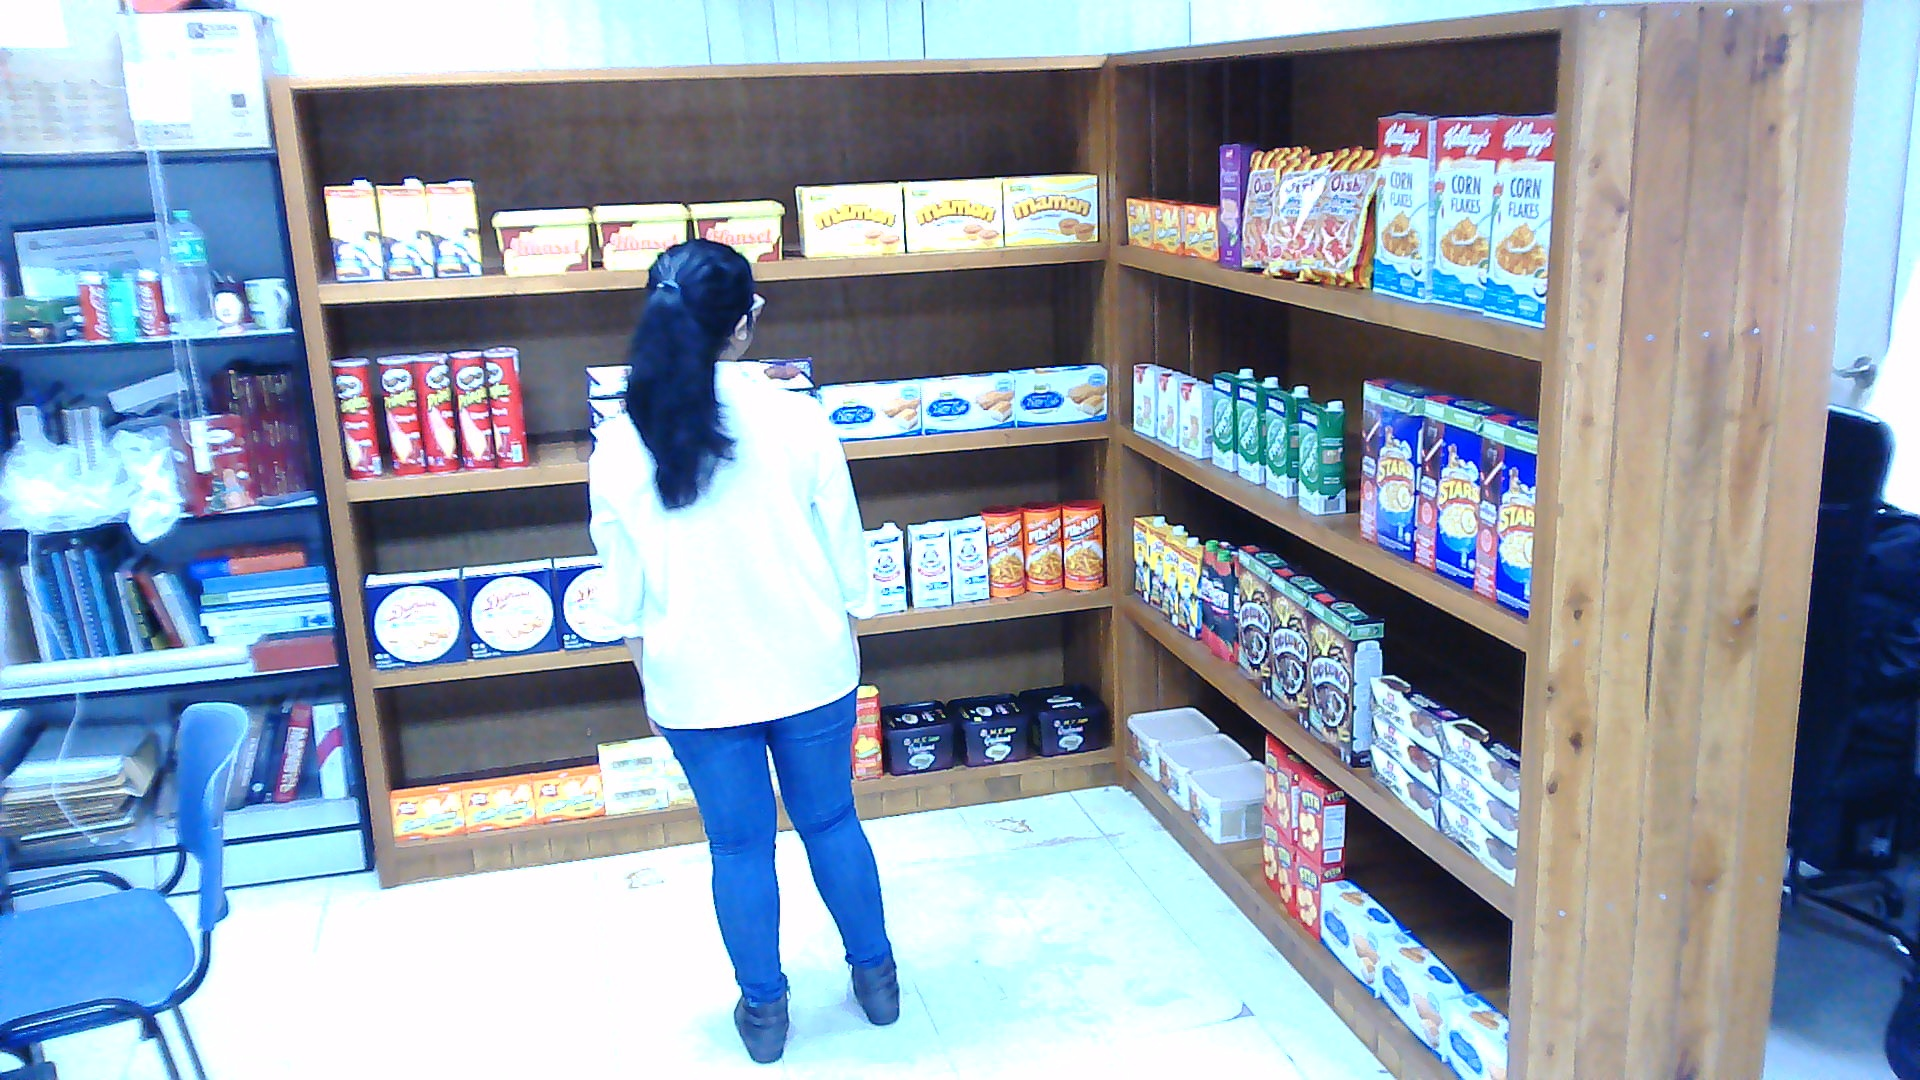Bear brand: (942, 513, 990, 601), (906, 520, 951, 608), (864, 520, 906, 612)
Buttercake: (1380, 929, 1476, 1062), (1320, 877, 1410, 999), (912, 368, 1014, 431), (1007, 362, 1106, 425), (812, 378, 917, 434), (1446, 992, 1506, 1078)
Butterlicious: (527, 762, 602, 821), (459, 771, 534, 830), (390, 780, 462, 841), (1152, 198, 1188, 254), (1125, 196, 1164, 245), (1184, 203, 1217, 259)
Camomille: (597, 735, 663, 782), (603, 776, 666, 814)
Choco Crunchies: (1371, 672, 1467, 755), (1440, 718, 1521, 808), (1440, 794, 1518, 886), (1440, 758, 1518, 848), (1371, 742, 1437, 830), (1370, 710, 1439, 791), (738, 353, 810, 387), (585, 360, 627, 394), (585, 396, 627, 423)
Chocolate Chips: (1124, 704, 1217, 780), (1155, 734, 1251, 808), (1185, 758, 1263, 844)
Chuckie: (321, 177, 381, 278), (374, 177, 431, 278), (426, 180, 480, 274), (1149, 524, 1188, 612), (1164, 533, 1197, 625), (1134, 513, 1167, 603), (1175, 542, 1202, 639)
Danisa: (362, 564, 467, 667), (459, 555, 561, 656), (552, 554, 624, 648)
Fita: (1293, 846, 1344, 940), (1296, 767, 1344, 864), (1278, 749, 1311, 846), (1266, 731, 1290, 819), (1278, 828, 1296, 918), (1260, 805, 1278, 891)
Fresh Milk: (1298, 398, 1343, 513), (1266, 385, 1311, 495), (1236, 376, 1281, 484), (1212, 367, 1257, 473)
Grahams: (1020, 682, 1104, 756), (948, 693, 1032, 765), (882, 700, 954, 774)
Hansel: (489, 207, 591, 272), (591, 200, 687, 268), (684, 198, 786, 261)
Head: (642, 236, 768, 371)
Honey Stars: (1413, 392, 1512, 590), (1359, 373, 1443, 560), (1473, 409, 1539, 614)
Kellogg Corn Flakes: (1482, 112, 1554, 326), (1430, 115, 1499, 311), (1373, 110, 1436, 301)
Koko Krunch: (1308, 587, 1386, 765), (1269, 567, 1329, 731), (1239, 542, 1290, 697)
Locally Mango: (848, 684, 881, 778)
Mamon: (795, 180, 906, 256), (897, 176, 1005, 252), (992, 171, 1097, 243)
Oishi Prawn: (1257, 149, 1335, 279), (1313, 148, 1376, 288), (1242, 144, 1311, 266)
Pik-nik: (981, 504, 1023, 594), (1062, 500, 1104, 590), (1020, 502, 1062, 592)
Pringles: (329, 355, 380, 477), (375, 353, 423, 472), (411, 351, 459, 470), (446, 348, 491, 467), (483, 344, 525, 466)
Super Fruits: (1200, 540, 1233, 643), (1209, 549, 1233, 659), (1230, 548, 1239, 661)
Wafer: (1218, 142, 1251, 268)
iHop: (1178, 377, 1211, 458), (1131, 360, 1167, 434), (1158, 369, 1191, 445)
